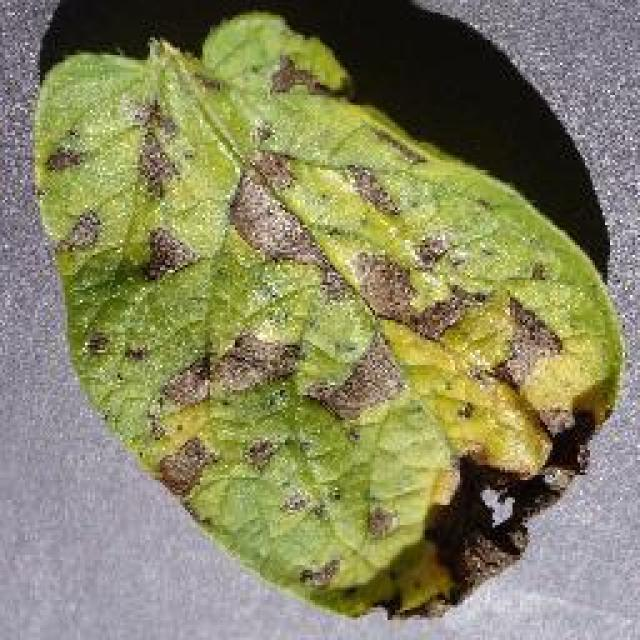Potato___Early_blight: (29, 12, 625, 620)
